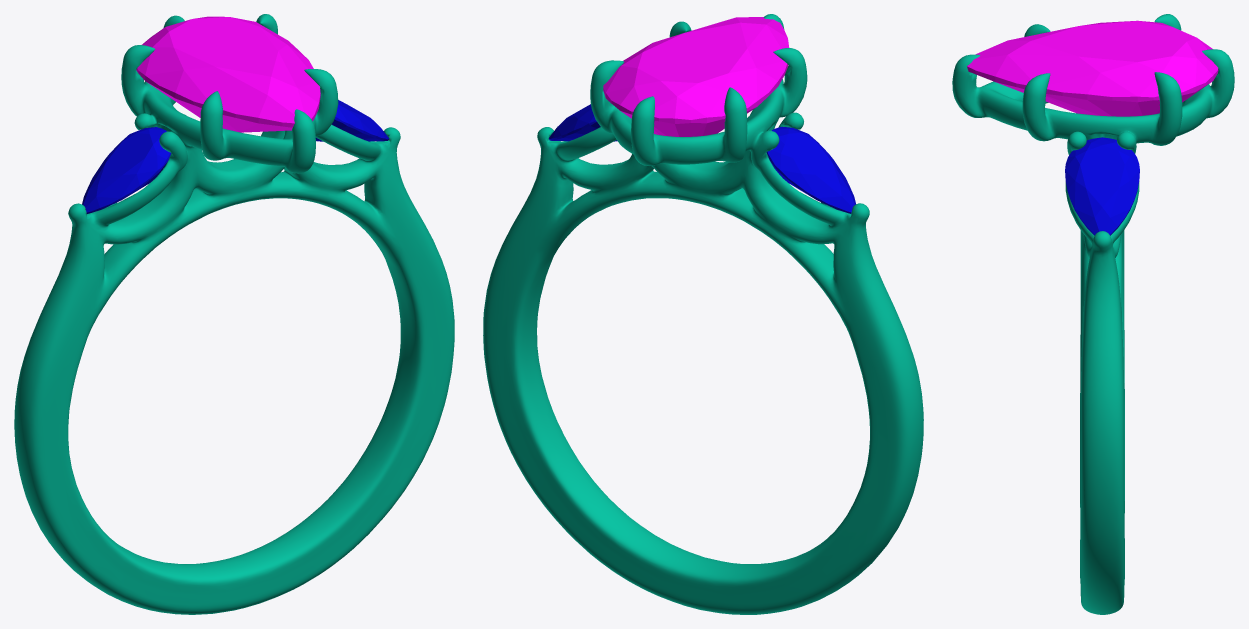
File: BE1D1125_PE_200ct_RENDER.glb
3 renders of one model, left to right at view 1: azimuth 30°, elevation 25°; view 2: azimuth 150°, elevation 25°; view 3: azimuth 270°, elevation 25°, orthographic.
Visible parts, largest first — view 1: Metal 01, CS_Diamond_Pear, Diamond_Pear_side, Diamond_Pear_side.001; view 2: Metal 01, CS_Diamond_Pear, Diamond_Pear_side, Diamond_Pear_side.001; view 3: Metal 01, CS_Diamond_Pear, Diamond_Pear_side.001.
Part boxes in pixels (x1,y1,x2,y2): Metal 01: [14, 14, 454, 614]; CS_Diamond_Pear: [136, 16, 320, 132]; Diamond_Pear_side: [82, 127, 171, 213]; Diamond_Pear_side.001: [315, 100, 389, 141]; Metal 01: [483, 14, 923, 614]; CS_Diamond_Pear: [603, 17, 789, 136]; Diamond_Pear_side: [766, 126, 855, 213]; Diamond_Pear_side.001: [548, 104, 617, 141]; Metal 01: [952, 14, 1234, 614]; CS_Diamond_Pear: [967, 20, 1218, 116]; Diamond_Pear_side.001: [1065, 137, 1139, 235].
Size of the model in its own units: 20.49 by 25.3 by 11.75.
